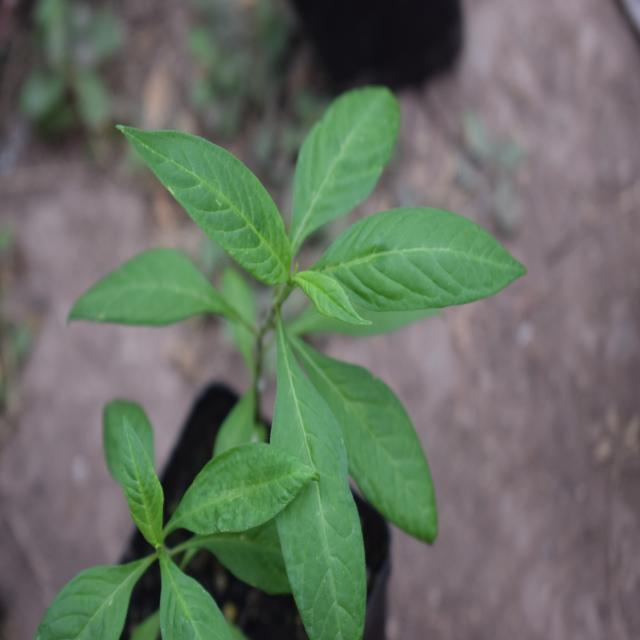white_smart_weed: (64, 70, 495, 592)
